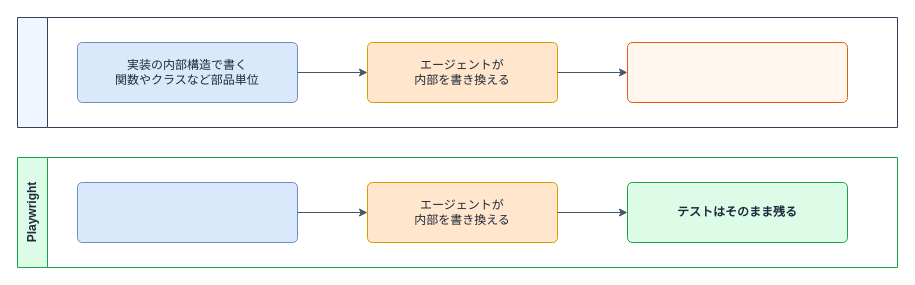
Some shapes in this 915 by 285 pixel diagram are drawn without their labels. The box of each missing label's shape, as (x1, y1, x2, y2) in pixels:
テストの書き直しが要る: (626, 42, 848, 102)
利用者から見える言葉で書く 何をしたら、どうなるか: (76, 182, 298, 242)
単体テスト: (16, 16, 898, 128)
